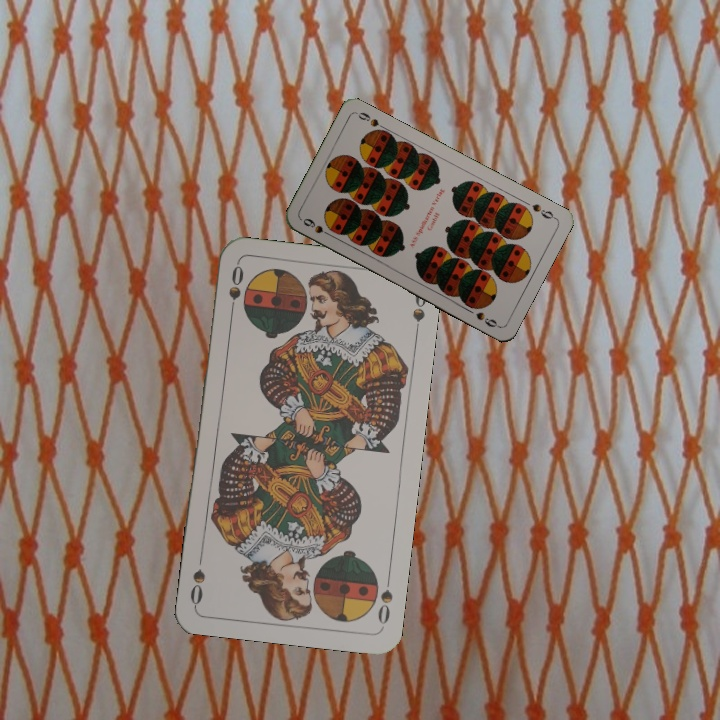S9: (299, 214, 336, 240), (528, 199, 559, 222)
SO: (224, 261, 247, 320), (373, 570, 395, 629)
